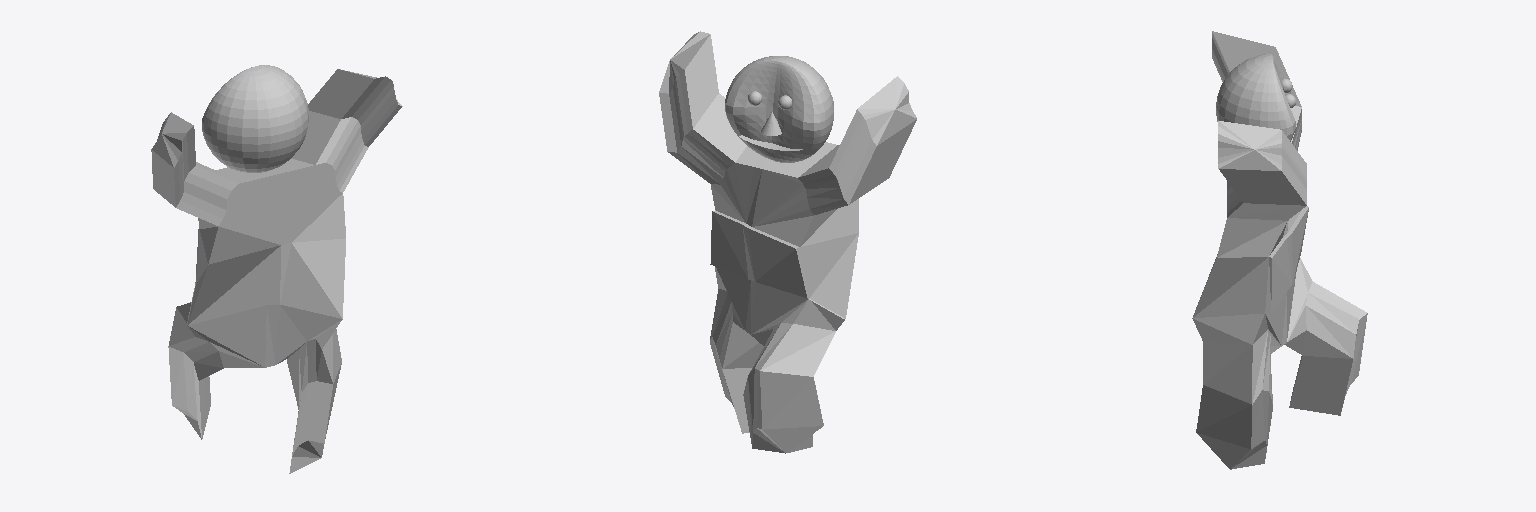
Rendered from man_000019.obj.
3 renders of one model, left to right at view 1: azimuth 30°, elevation 25°; view 2: azimuth 150°, elevation 25°; view 3: azimuth 270°, elevation 25°, orthographic.
Parts seen in each view (by area): view 1: Cube; view 2: Cube; view 3: Cube.
Part boxes in pixels (x1,y1,x2,y2): Cube: (151, 65, 402, 473); Cube: (659, 31, 916, 453); Cube: (1192, 31, 1367, 469).
Bounding box in the file's own units: 79.08 × 126 × 51.93.